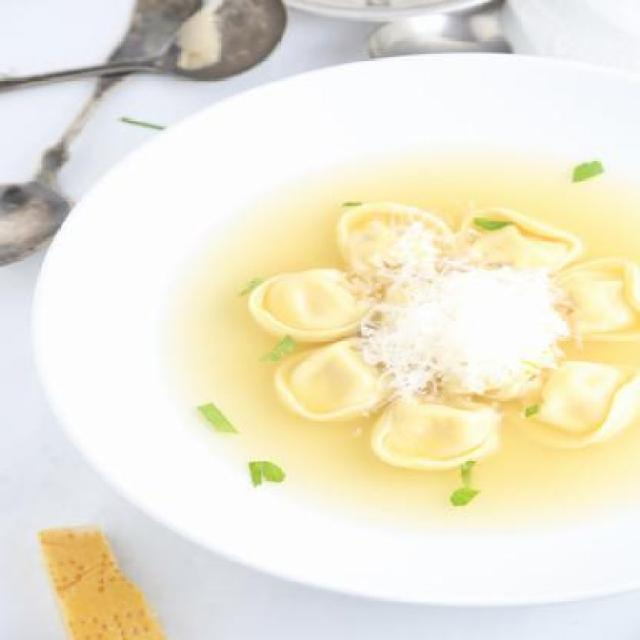Tortellini in broth: (195, 178, 640, 497)
